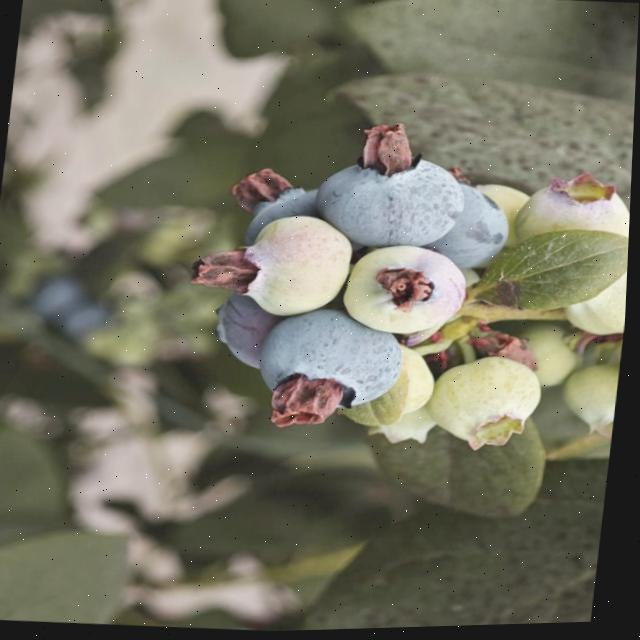RipeBlueBerry: (259, 314, 407, 415), (324, 150, 467, 249), (433, 182, 515, 273)
Semi-RipeBlueBerry: (337, 243, 475, 339)
UnripeBlueBerry: (224, 209, 353, 325), (431, 354, 547, 457), (515, 174, 633, 260)
